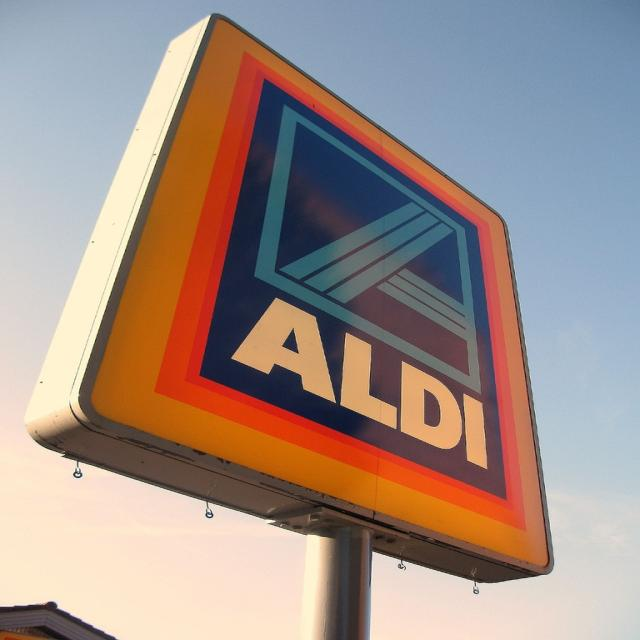aldi: (81, 14, 556, 571)
